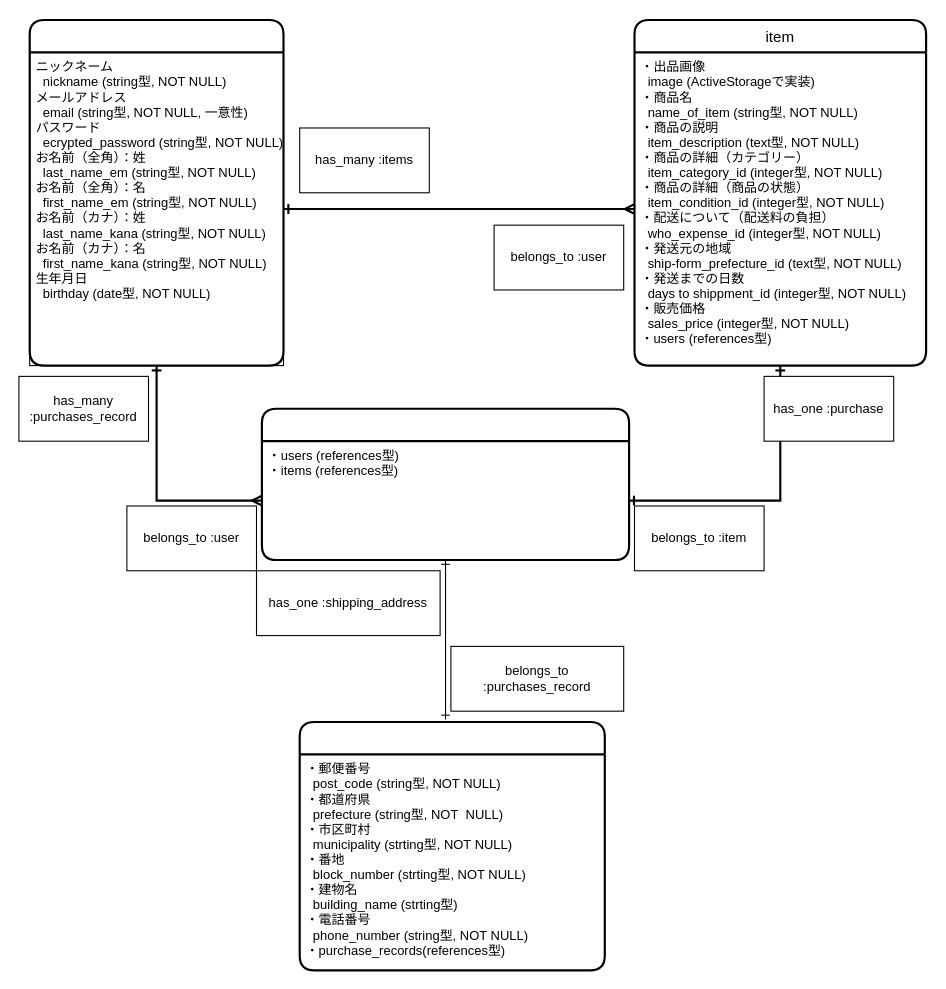
This 946x989 diagram has some shape labels left out. Each missing label, with the box of its shape:
purchases_record: (260, 407, 630, 561)
shipping_address: (298, 720, 605, 971)
user: (28, 18, 284, 366)
